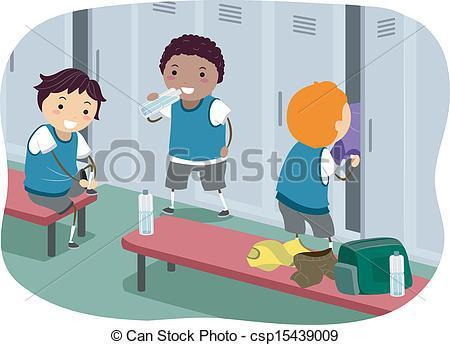bottle: (138, 85, 183, 124), (387, 248, 407, 301), (136, 190, 157, 237)
person: (137, 33, 231, 218), (20, 63, 103, 250), (275, 80, 359, 249)
